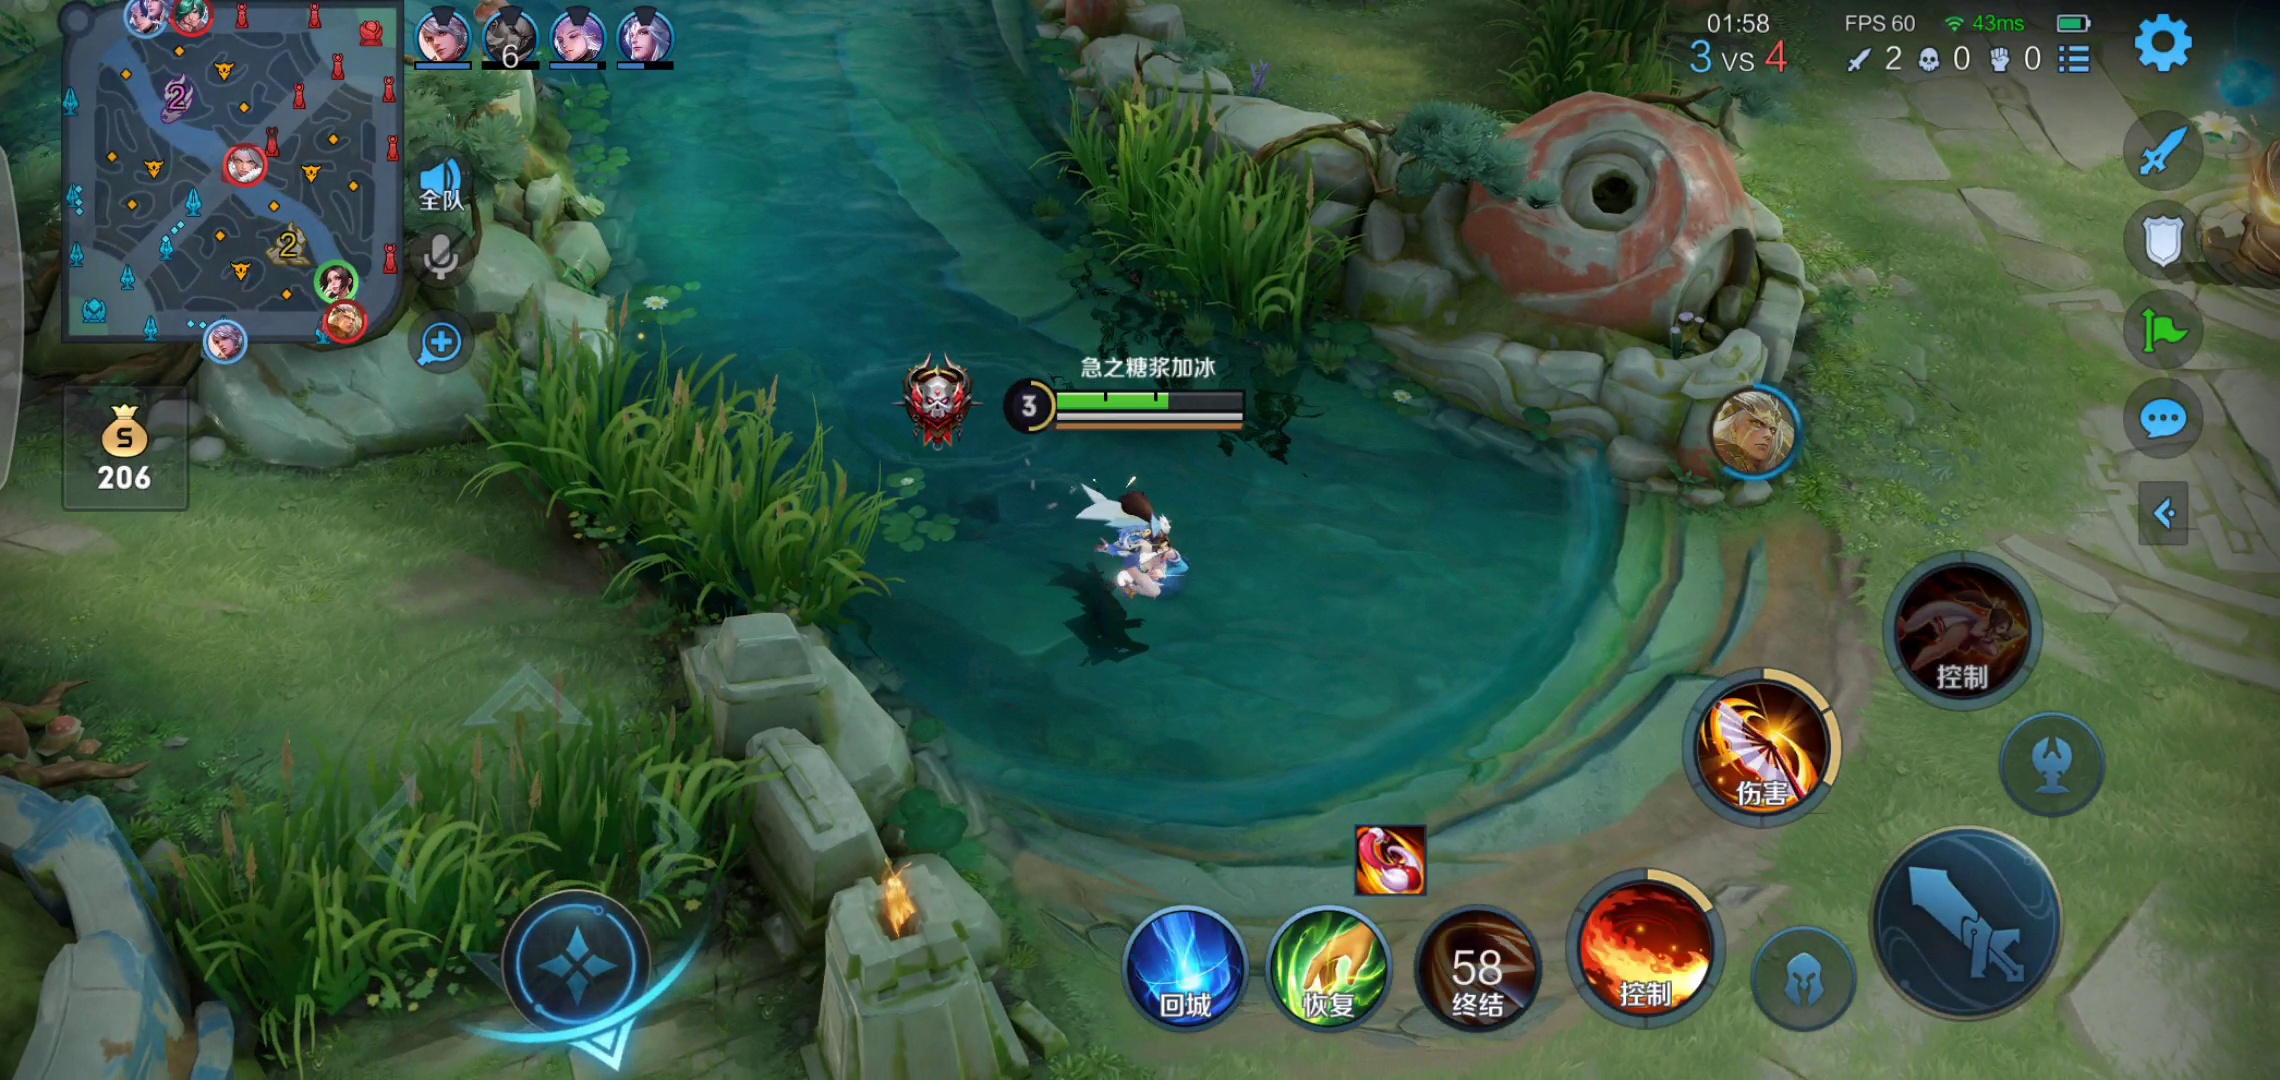grass: (129, 765, 766, 975), (470, 339, 864, 616), (1048, 90, 1317, 343), (1489, 1, 1698, 124)
hero: (1045, 470, 1214, 613)
